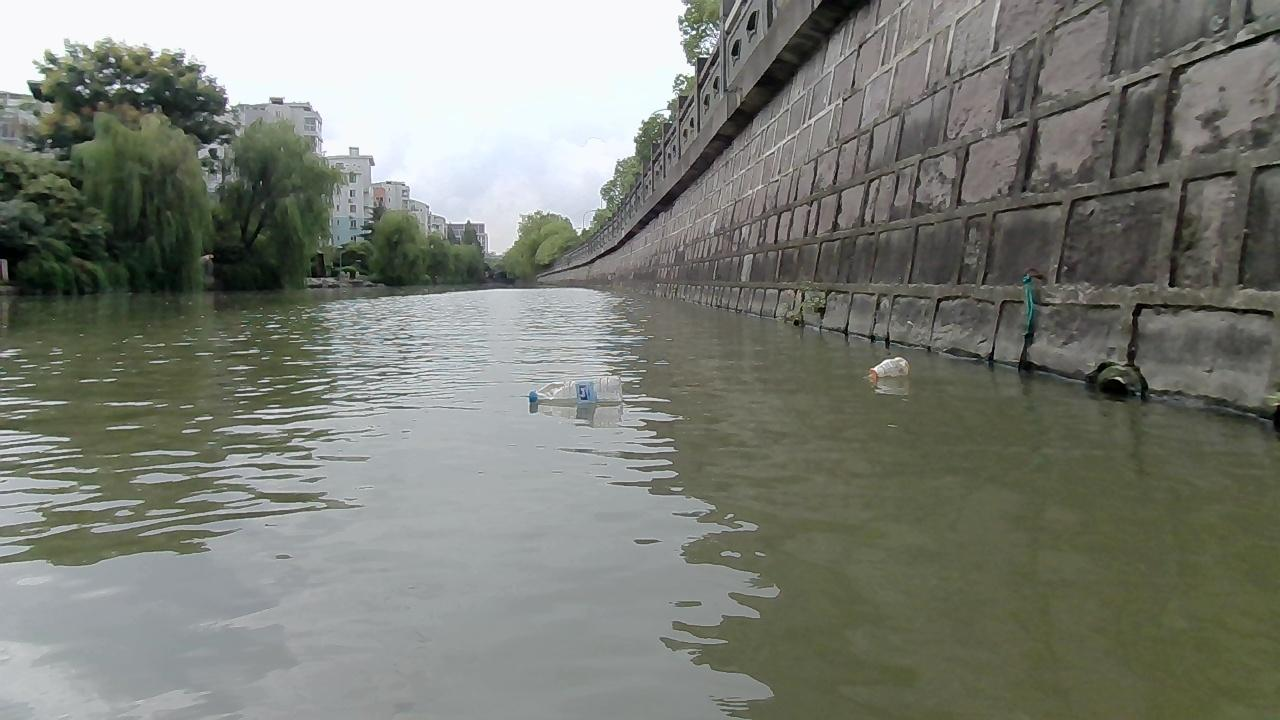bottle: (528, 375, 622, 403), (861, 355, 910, 380)
